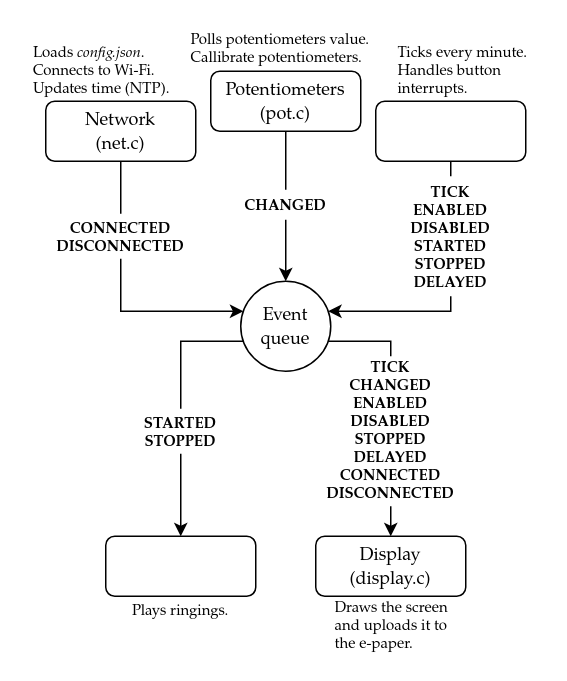
Some shapes in this 567 by 681 pixel diagram are drawn without their labels. Here are the shapes that lost their labels. From the top down, the centre of each, then its label:
the point at 450,130: Alarm (alarm.c)
the point at 180,565: Sound (sound.c)
